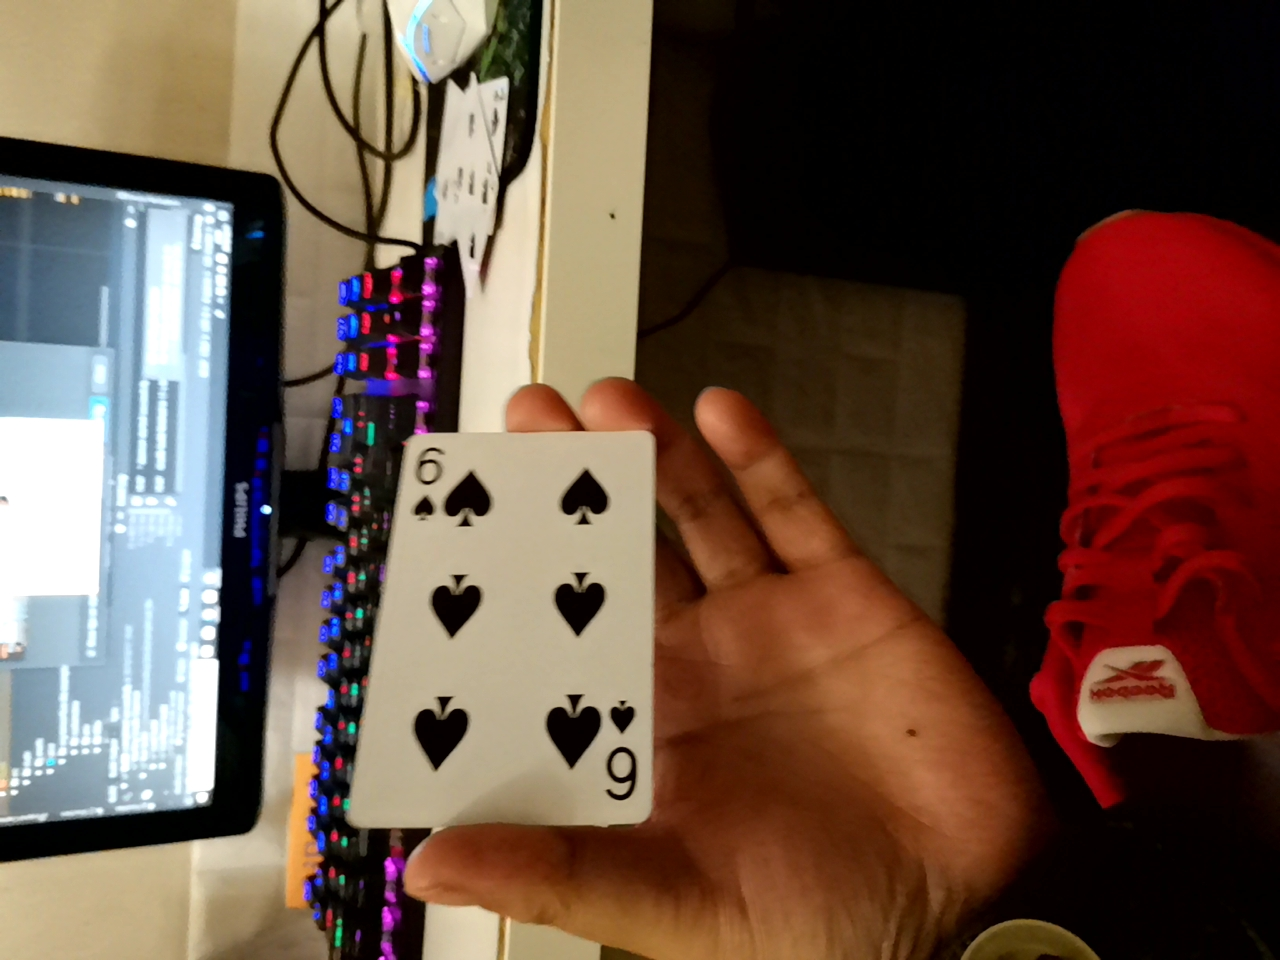ht 6: (351, 447, 658, 826)
